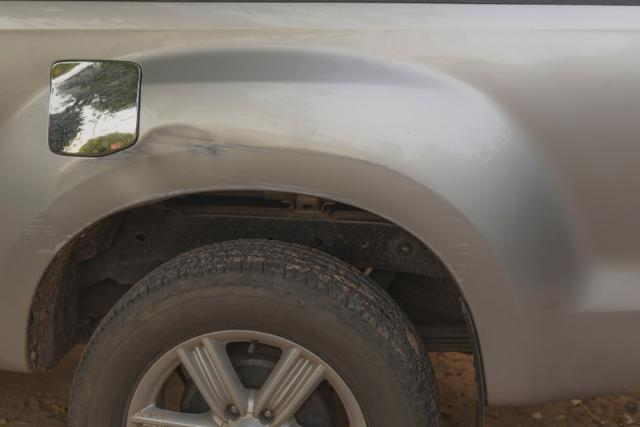Fender: (17, 60, 431, 232)
